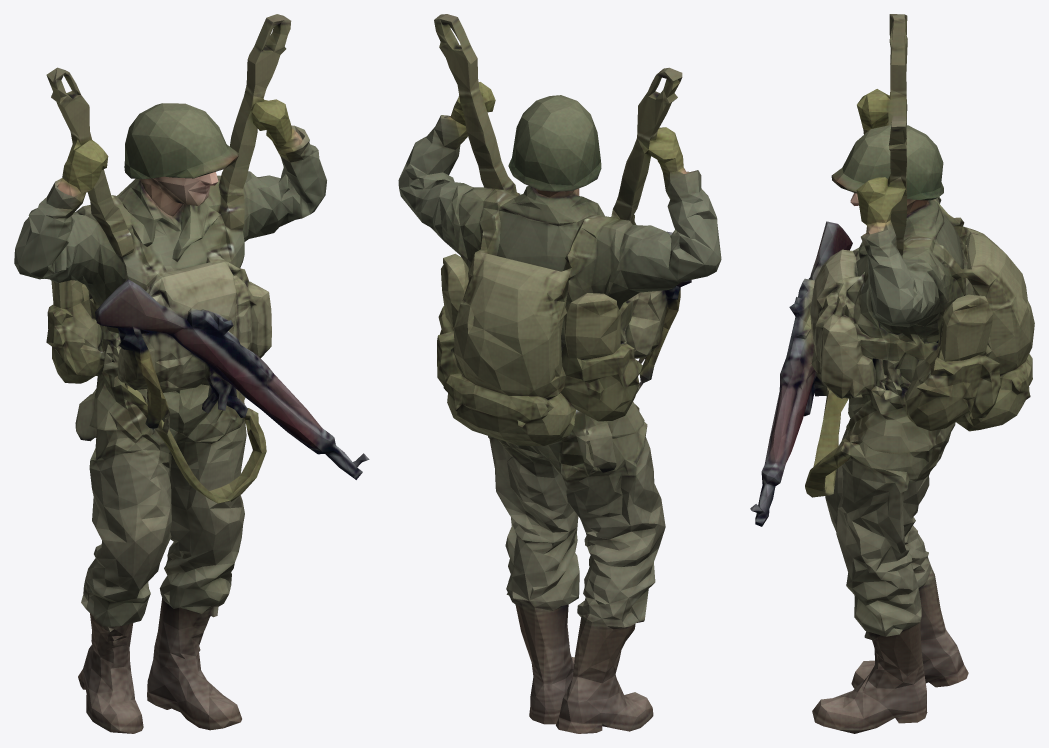
File: para_us.obj
3 renders of one model, left to right at view 1: azimuth 30°, elevation 25°; view 2: azimuth 150°, elevation 25°; view 3: azimuth 270°, elevation 25°, orthographic. The views are drawn at different scales.
Parts seen in each view (by area): view 1: para_us; view 2: para_us; view 3: para_us.
Boxes of the visible parts, box(x1,y1,x2,y2) form: para_us: box(14, 14, 369, 733); para_us: box(398, 14, 721, 733); para_us: box(750, 14, 1034, 733).
Bounding box in the file's own units: 1.23 × 2.5 × 0.9927.
1 material, 1 textured.
